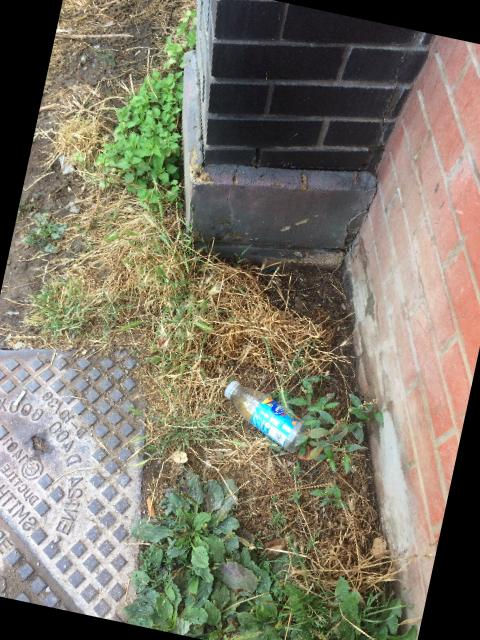plastic: (225, 380, 308, 452)
